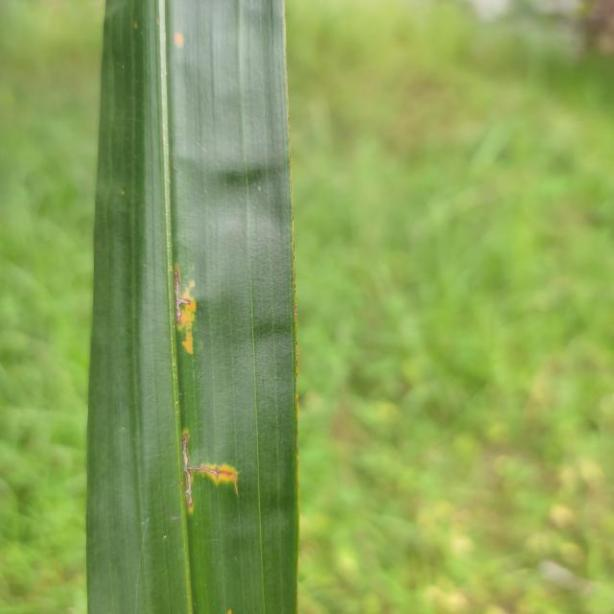Boron: (86, 0, 302, 614)
